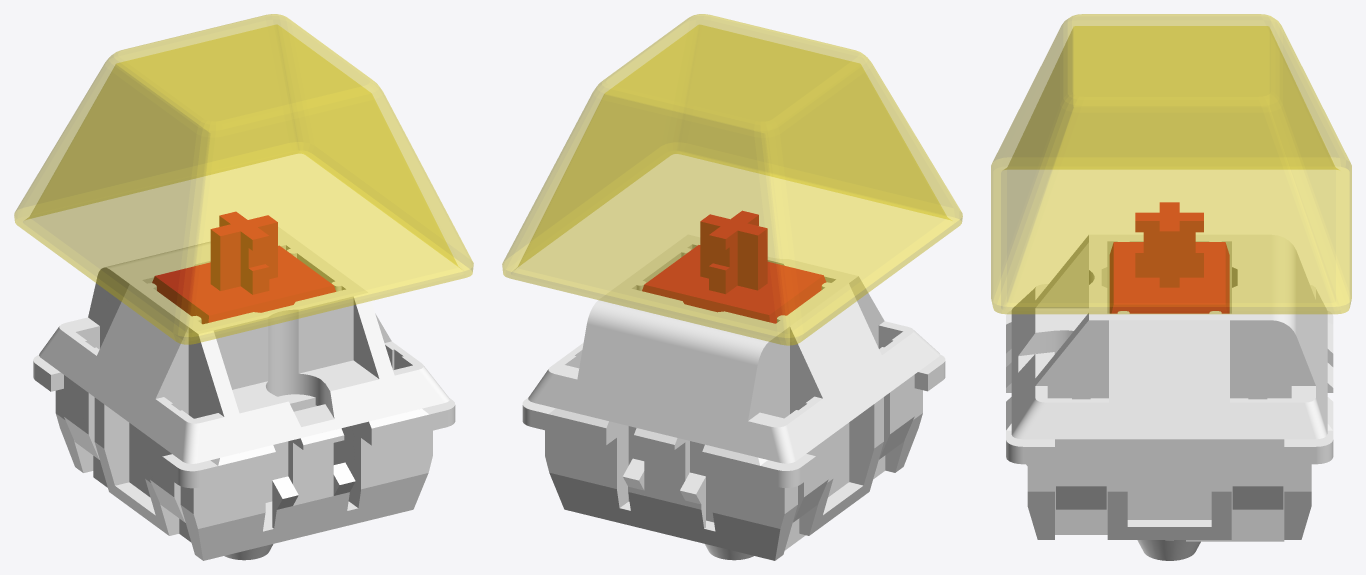
Rendered from yellow.glb.
The picture shows the model from 3 angles, left to right: view 1: azimuth 30°, elevation 25°; view 2: azimuth 150°, elevation 25°; view 3: azimuth 270°, elevation 25°; orthographic projection. The views are drawn at different scales.
Visible parts, largest first — view 1: Cube, Solid 154, Solid 87, Solid 208; view 2: Cube, Solid 154, Solid 87, Solid 208; view 3: Cube, Solid 154, Solid 87, Solid 208.
Boxes of the visible parts, <box> form: Cube: <box>14,14,473,344</box>; Solid 154: <box>39,227,449,522</box>; Solid 87: <box>33,355,455,560</box>; Solid 208: <box>152,211,335,323</box>; Cube: <box>502,14,962,345</box>; Solid 154: <box>528,234,939,522</box>; Solid 87: <box>522,354,945,560</box>; Solid 208: <box>642,210,825,323</box>; Cube: <box>991,14,1351,313</box>; Solid 154: <box>1011,234,1327,509</box>; Solid 87: <box>1006,311,1333,560</box>; Solid 208: <box>1109,202,1229,313</box>.
Size of the model in its own units: 1.69 by 2.6 by 1.72.
